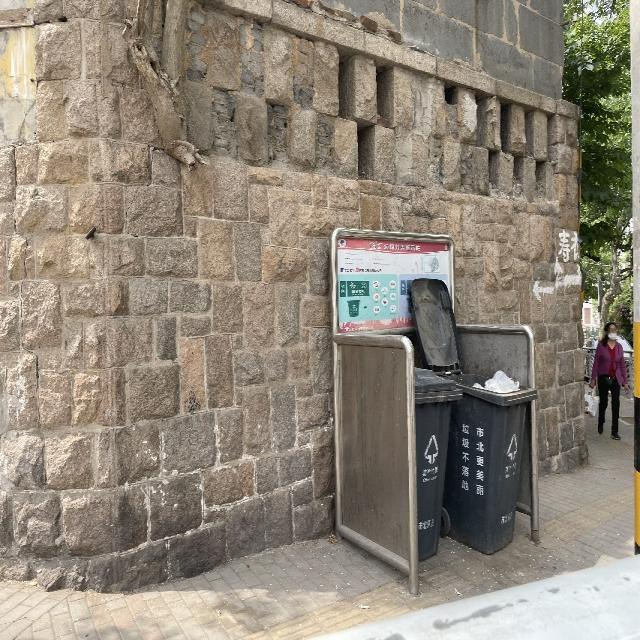garbage_bin: (414, 364, 462, 558)
overflow: (437, 368, 537, 555)
